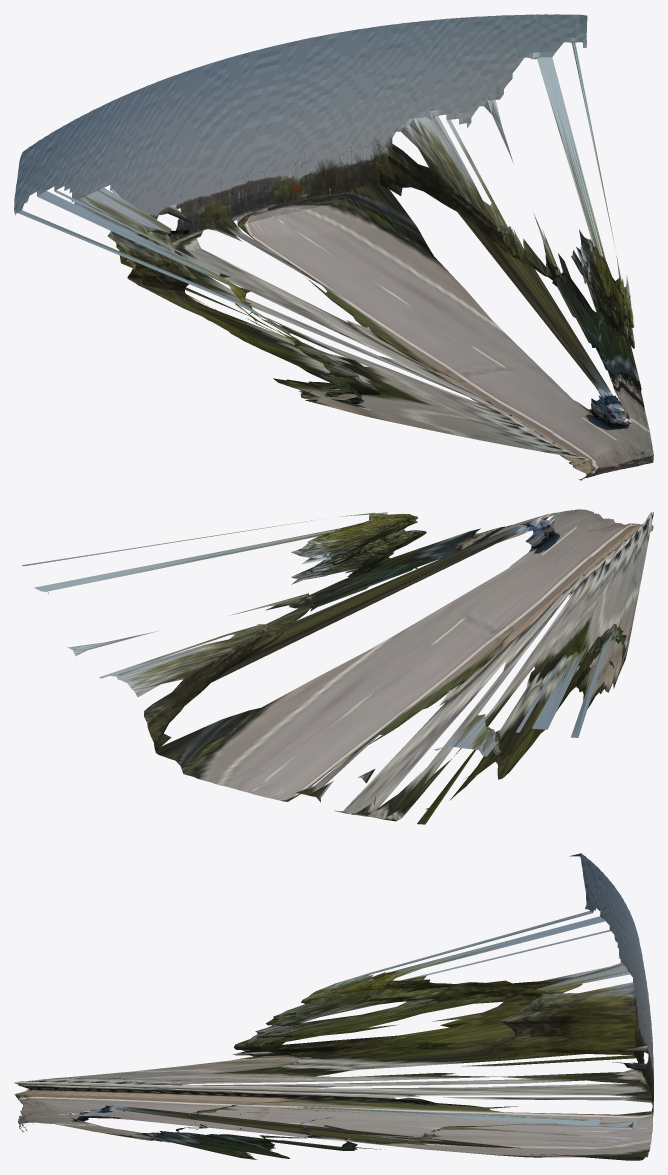
3 views of the same model, one above another, from view 1: azimuth 30°, elevation 25°; view 2: azimuth 150°, elevation 25°; view 3: azimuth 270°, elevation 25° (orthographic). The views are drawn at different scales.
Visible parts, largest first — view 1: defaultobject; view 2: defaultobject; view 3: defaultobject.
Boxes of the visible parts, <box> form: defaultobject: <box>14,14,653,480</box>; defaultobject: <box>21,509,653,824</box>; defaultobject: <box>14,853,653,1160</box>.
Bounding box in the file's own units: 40.88 × 12.42 × 44.5.
Materials: 1 (1 with a texture image).
